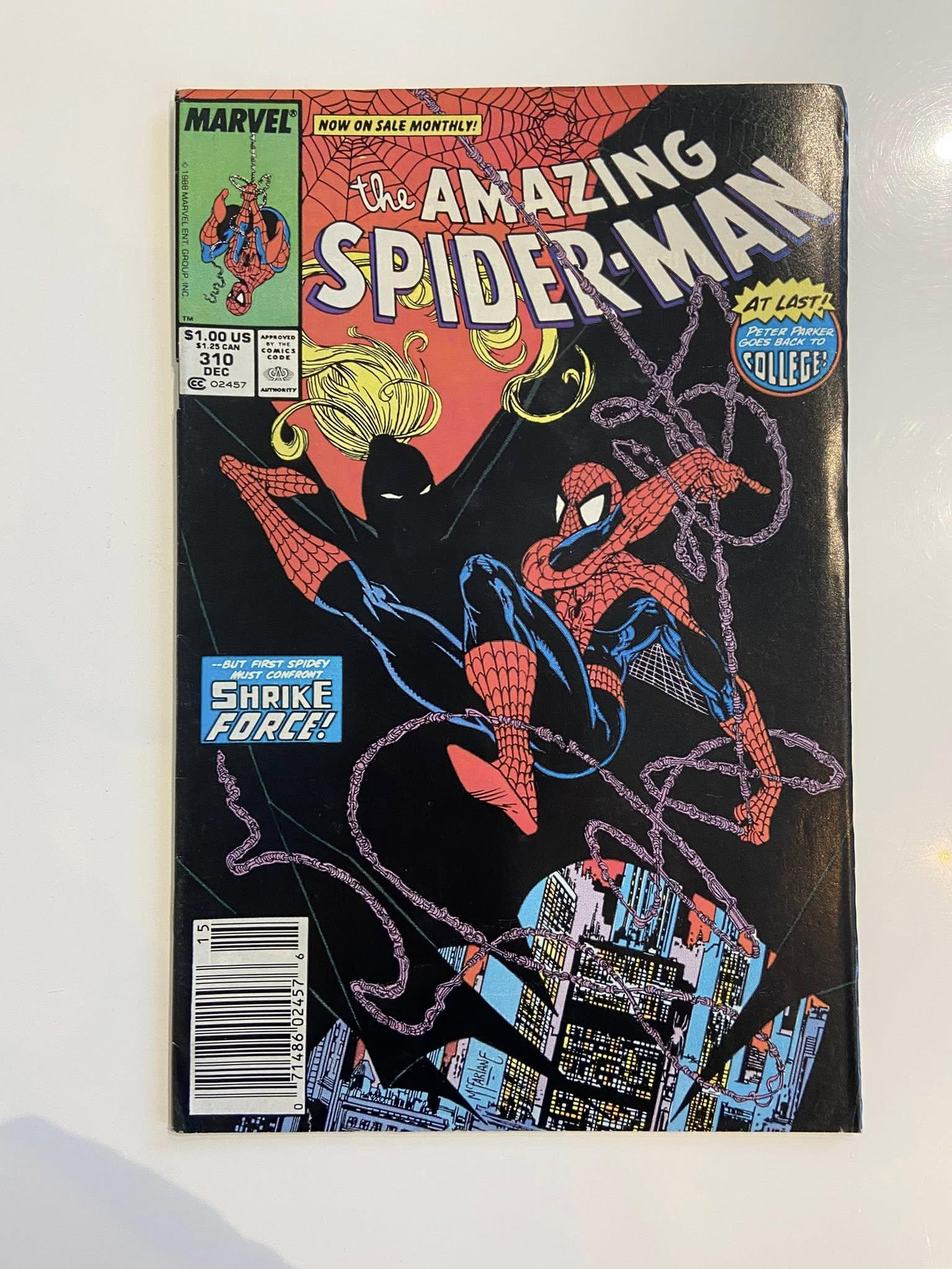comic: (174, 86, 858, 1131)
